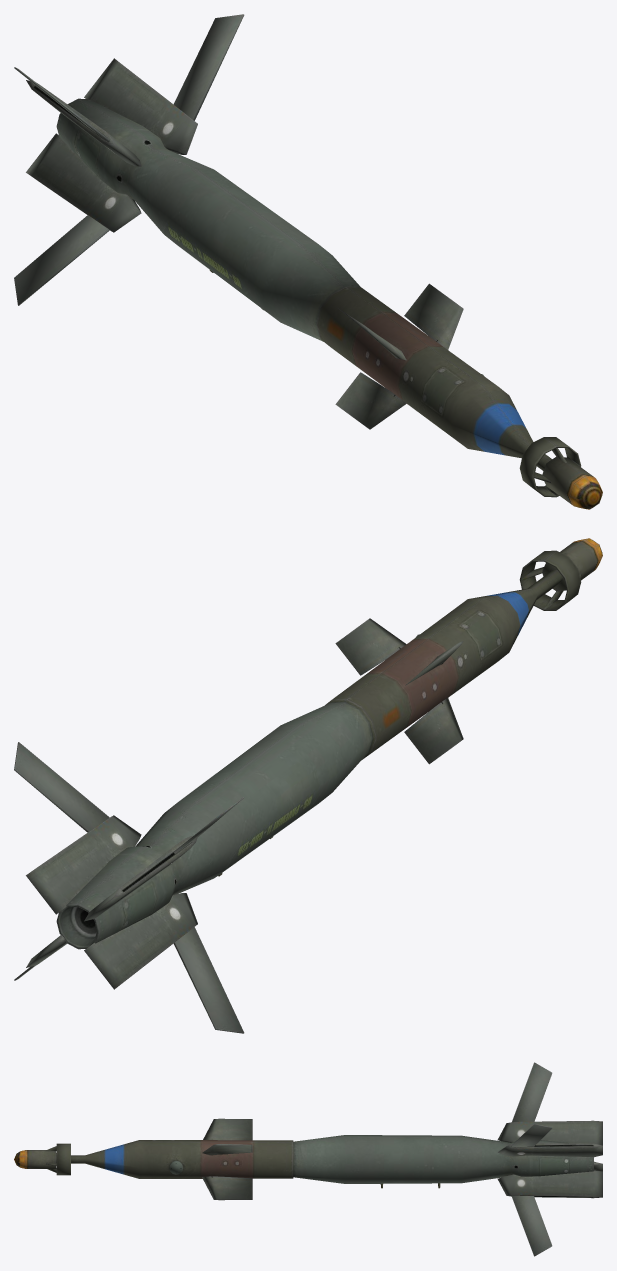
Rendered from bomb.glb.
The picture shows the model from 3 angles, top to bottom: view 1: azimuth 30°, elevation 25°; view 2: azimuth 150°, elevation 25°; view 3: azimuth 270°, elevation 25°; orthographic projection. The views are drawn at different scales.
Visible parts, largest first — view 1: rocket; view 2: rocket; view 3: rocket.
Part boxes in pixels (<box>): rocket: <box>14,14,602,509</box>; rocket: <box>14,538,602,1033</box>; rocket: <box>14,1062,602,1256</box>.
Bounding box in the file's own units: 1.05 × 1.05 × 4.2.
Materials: 1 (1 with a texture image).
